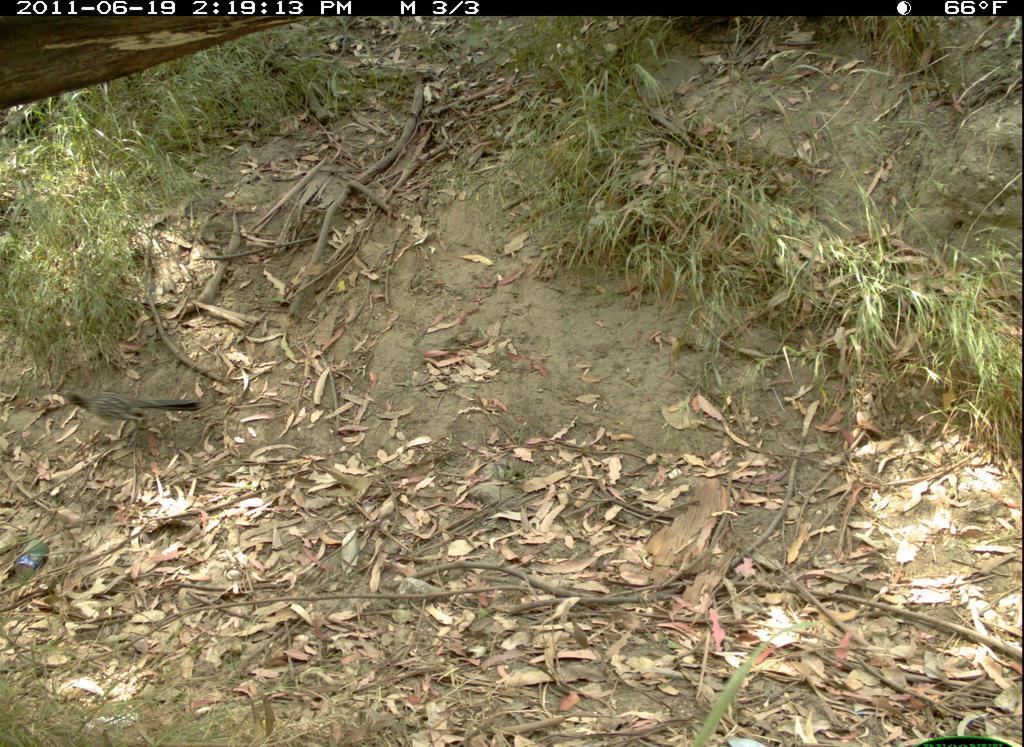bird: (40, 382, 204, 457)
